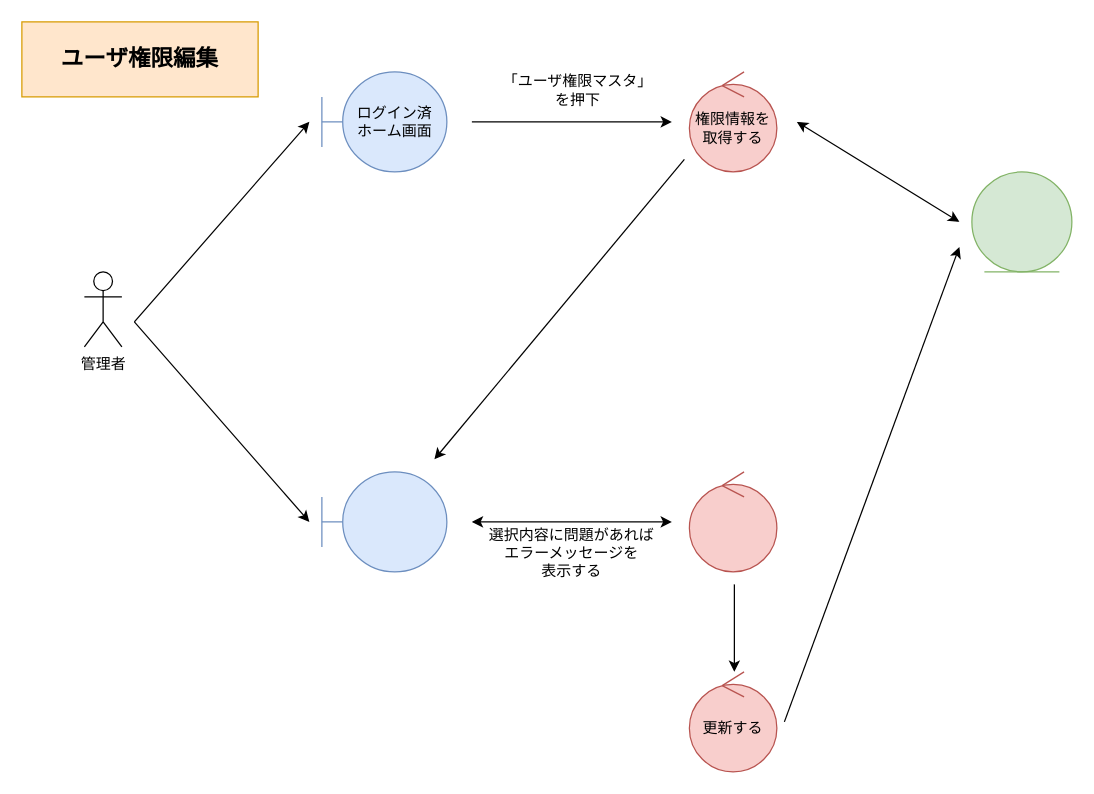
Some shapes in this 1094 by 794 pixel diagram are drawn without their labels. Here are the shapes that lost their labels. From the top down, the centre of each, then its label:
At point 1021,221: "権限情報".
At point 384,521: "権限編集 画面".
At point 732,521: "更新内容を検証する".
